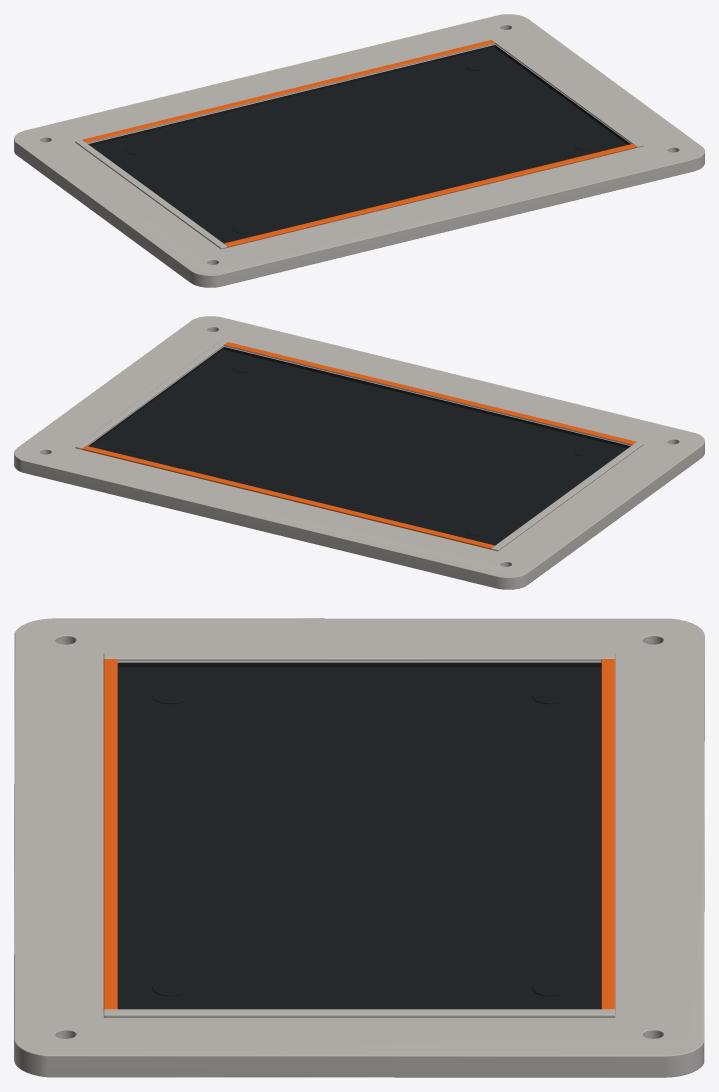
The model's file is plate-08-experience.glb.
3 renders of one model, top to bottom at view 1: azimuth 30°, elevation 25°; view 2: azimuth 150°, elevation 25°; view 3: azimuth 270°, elevation 25°, orthographic. The views are drawn at different scales.
Parts seen in each view (by area): view 1: Plate_08_Experience; view 2: Plate_08_Experience; view 3: Plate_08_Experience.
Part boxes in pixels (x1=…): Plate_08_Experience: x1=14, y1=14, x2=704, y2=287; Plate_08_Experience: x1=14, y1=316, x2=704, y2=589; Plate_08_Experience: x1=14, y1=618, x2=704, y2=1077.
Size of the model in its own units: 0.3 by 0.008 by 0.2.
